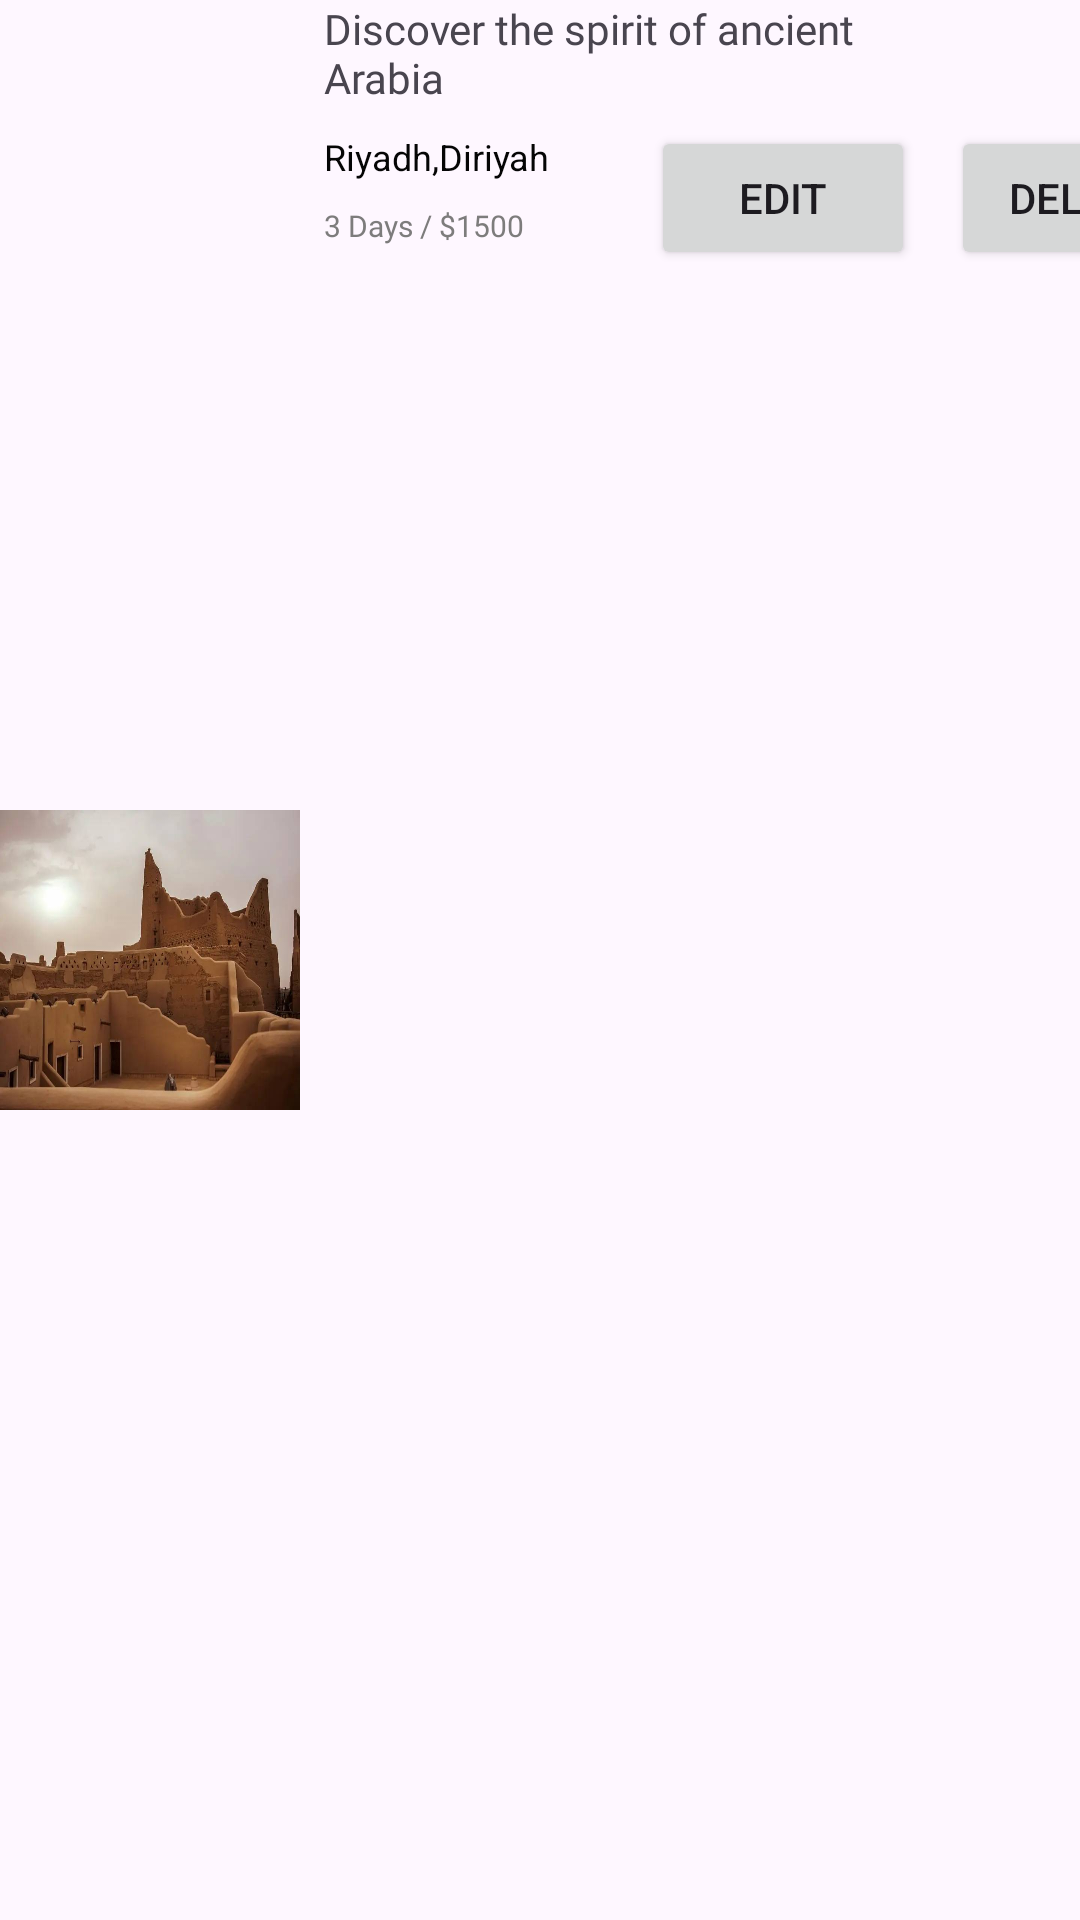

Locate icon controls on the screen. Image size 1080px x 1920px, boxes as Rect(x1, y1, x2, y2).
riyadh rc: Rect(0, 810, 300, 1110)
